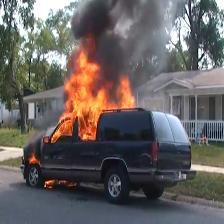fire: (47, 31, 134, 141), (42, 177, 76, 190), (25, 152, 39, 165)
